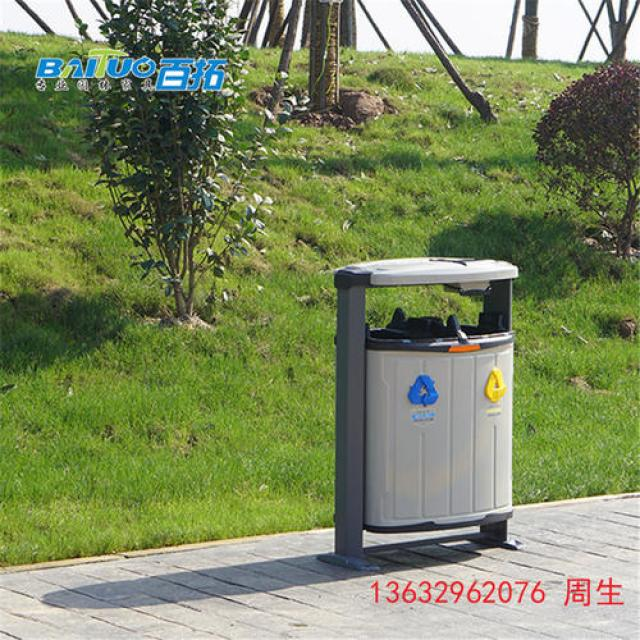garbage_bin: (315, 256, 523, 571)
